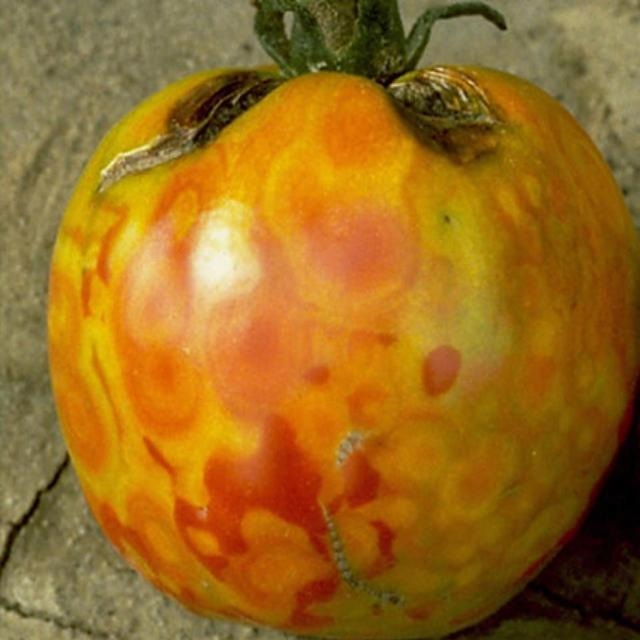Spotted wilt Virus Fruit: (129, 22, 314, 74)
